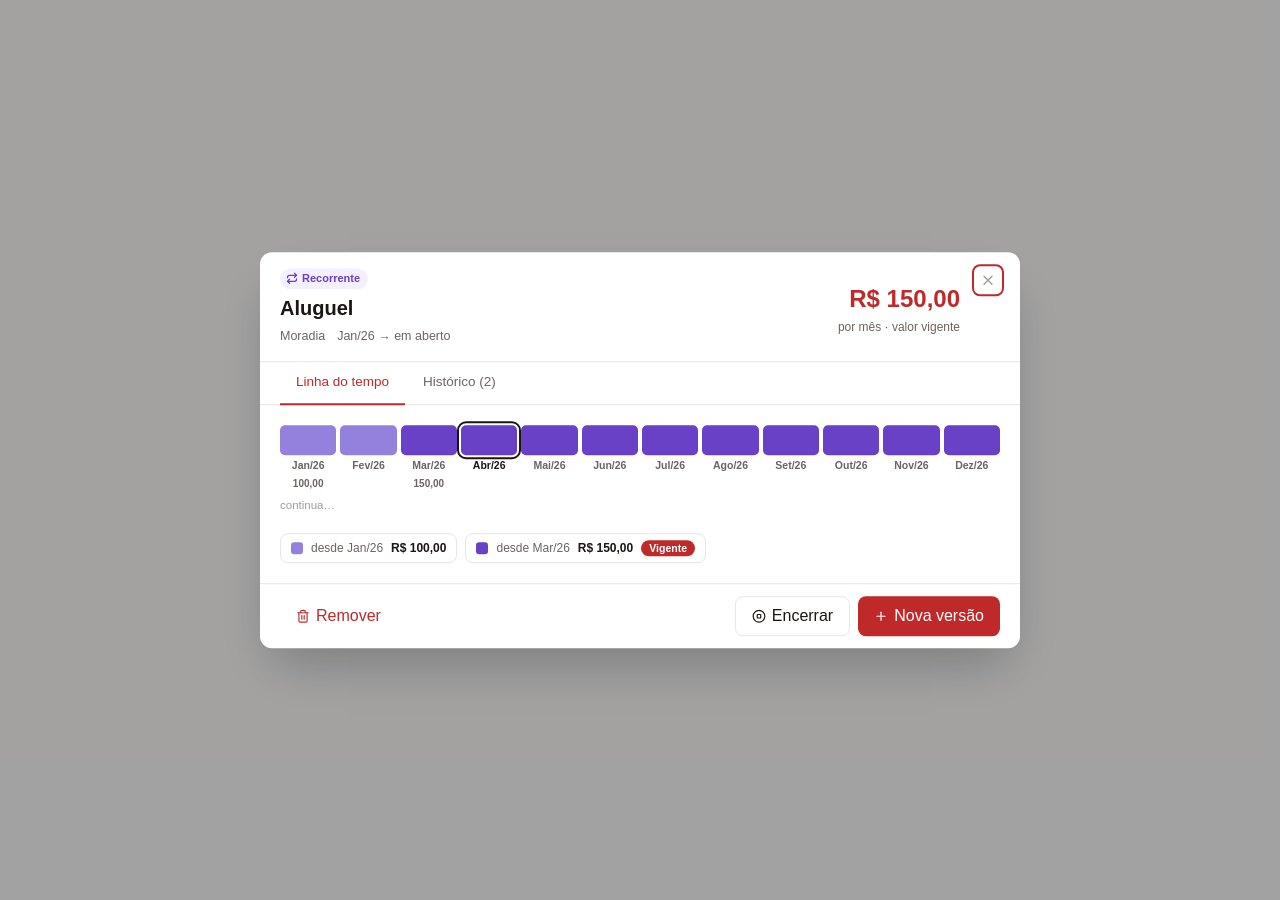
Test: SeriesFicha nos modos de ação › Nova versão mostra trilha, aviso, campos e prévia; Voltar retorna
The width and height of the screenshot is (1280, 900).
Click the button "Nova versão" at (929, 616), box x1=858 y1=596 x2=1000 y2=636
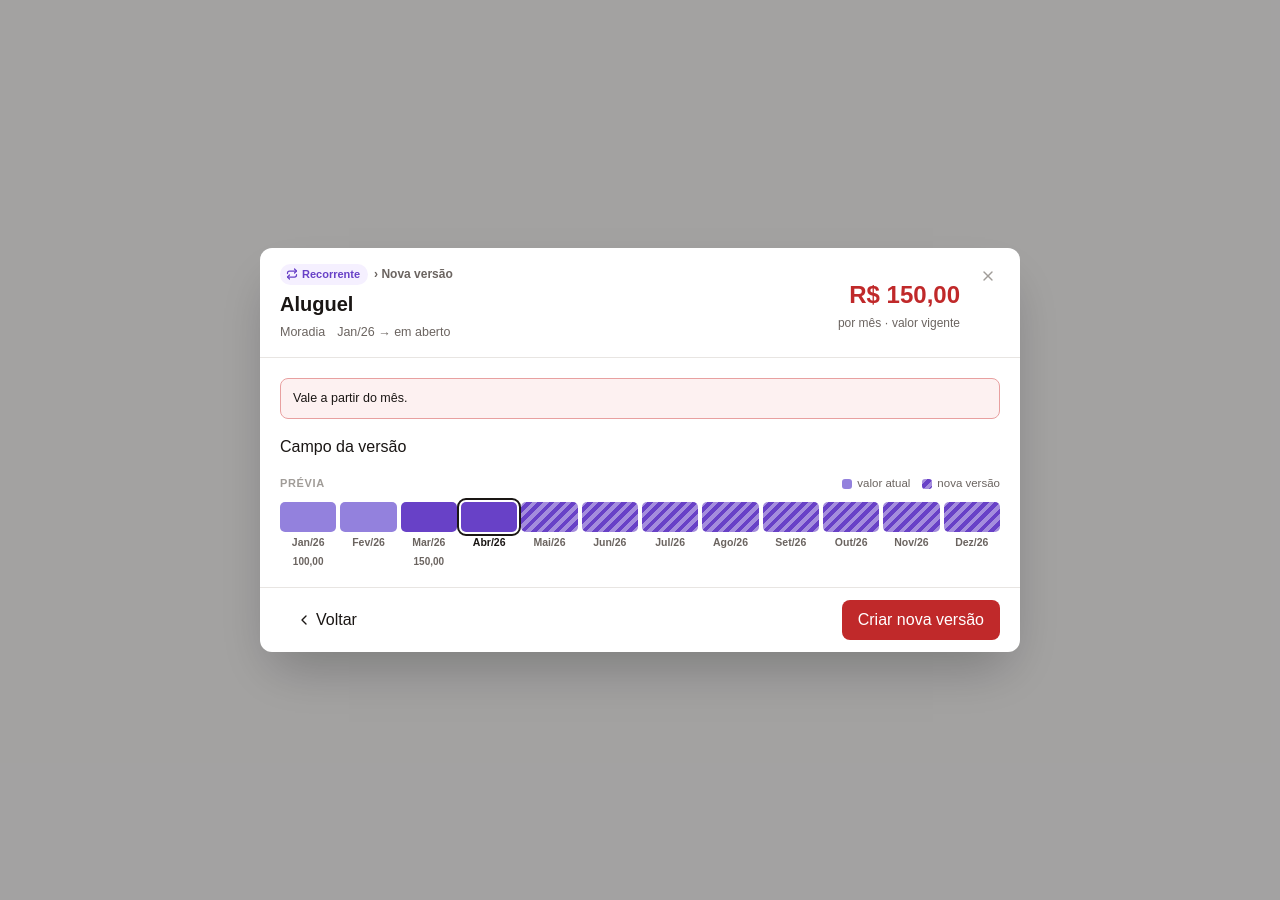
Result: the text "› Nova versão" is shown at x1=374 y1=266 x2=453 y2=282
Result: the text "Vale a partir do mês." is shown at x1=280 y1=378 x2=1000 y2=419
Result: the field labelled "Campo da versão" is shown at x1=406 y1=435 x2=613 y2=459
Click the button "Criar nova versão" at (921, 620), box x1=842 y1=600 x2=1000 y2=640
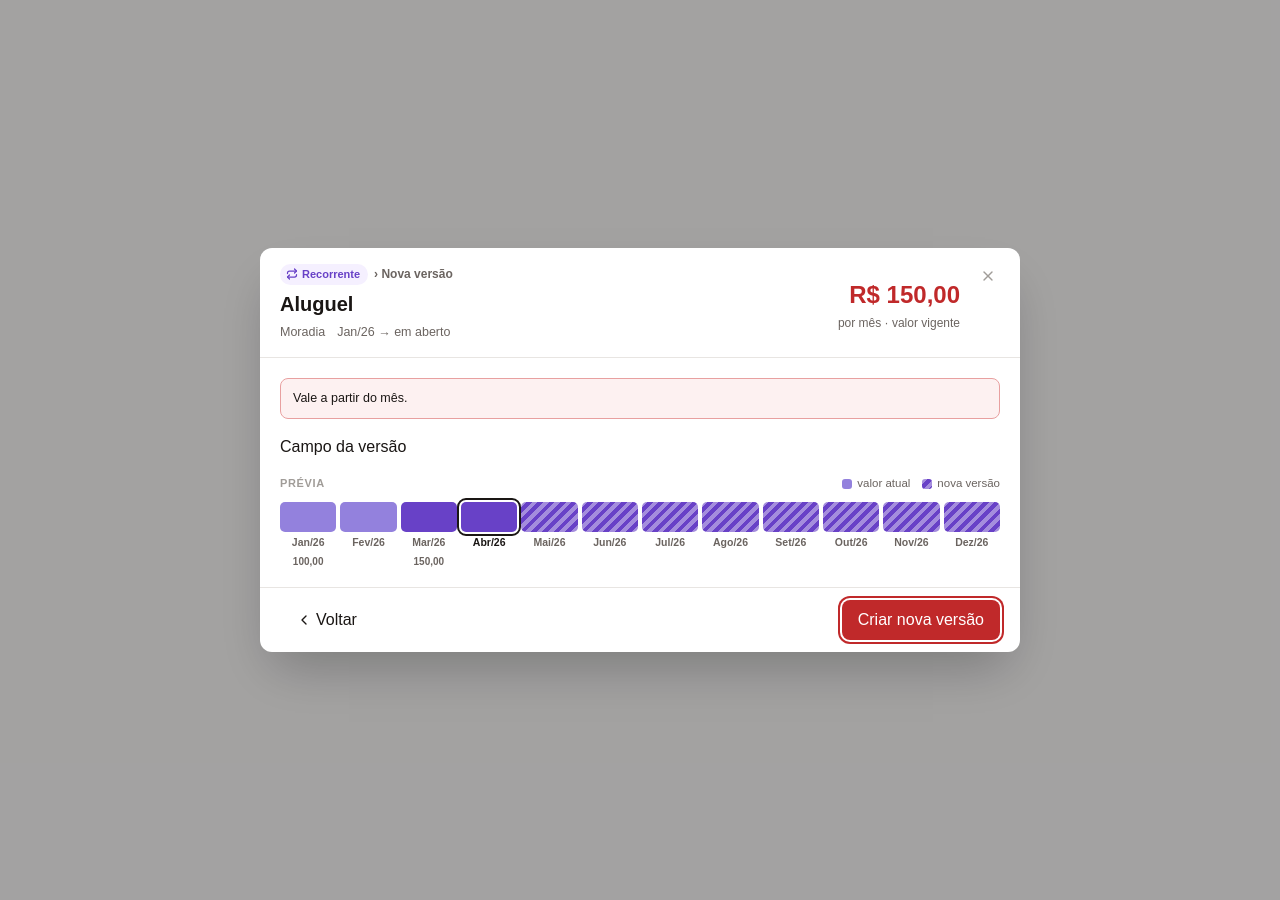
Click the button "Voltar" at (326, 620), box x1=280 y1=600 x2=373 y2=640
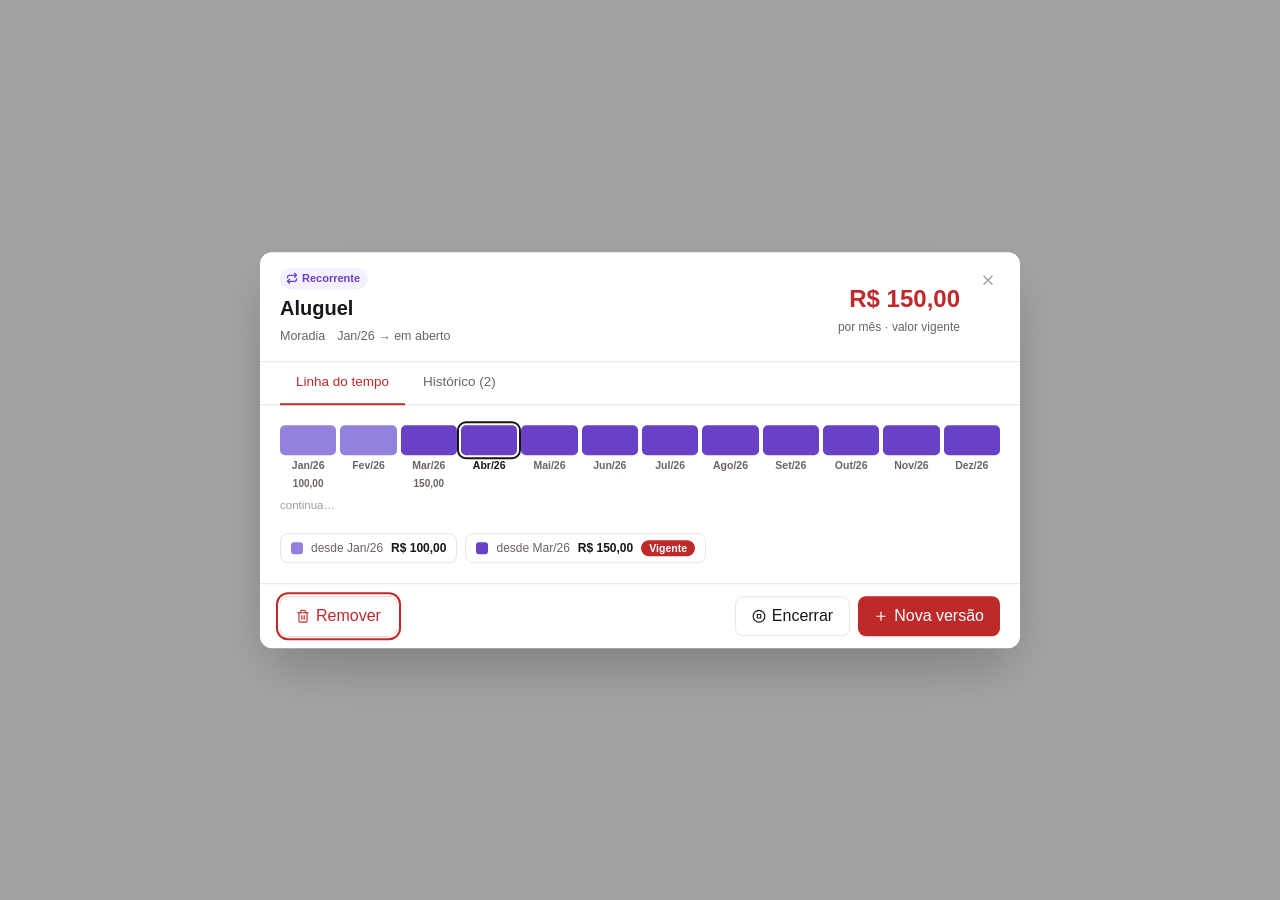
Result: the tab "Linha do tempo" is shown at x1=280 y1=362 x2=405 y2=405
